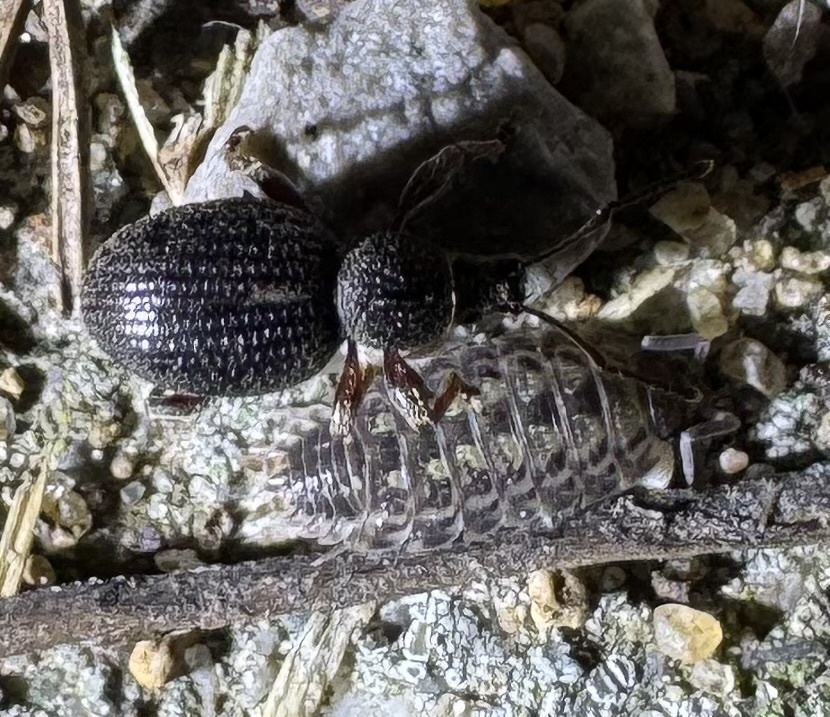weevils: (0, 40, 634, 527)
